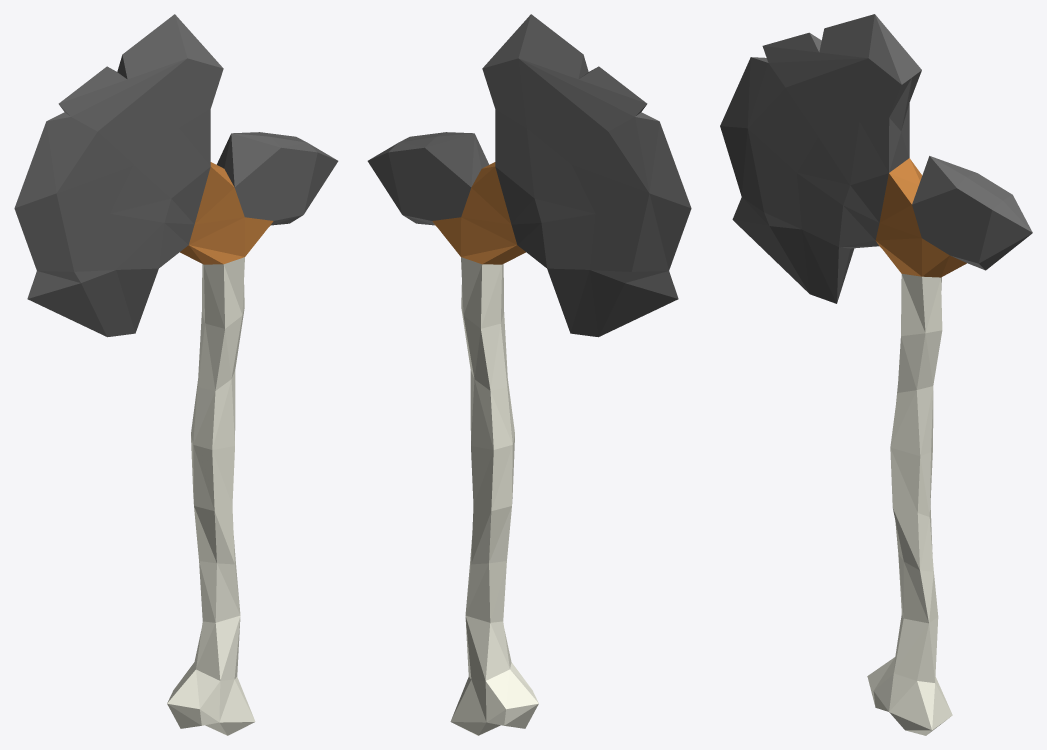
Rendered from Prop_Weapon_Axe_Bone_Hide_Metal_01.FBX.
3 views of the same model, side by side, from view 1: azimuth 30°, elevation 25°; view 2: azimuth 150°, elevation 25°; view 3: azimuth 330°, elevation 25° (orthographic). The views are drawn at different scales.
Visible parts, largest first — view 1: Prop_Weapon_Axe_Bone_Hide_Metal_01; view 2: Prop_Weapon_Axe_Bone_Hide_Metal_01; view 3: Prop_Weapon_Axe_Bone_Hide_Metal_01.
Part boxes in pixels (bbox=[...]): Prop_Weapon_Axe_Bone_Hide_Metal_01: bbox=[14, 14, 338, 735]; Prop_Weapon_Axe_Bone_Hide_Metal_01: bbox=[367, 14, 691, 735]; Prop_Weapon_Axe_Bone_Hide_Metal_01: bbox=[720, 14, 1032, 735].
Bounding box in the file's own units: 459 × 995 × 73.61.
